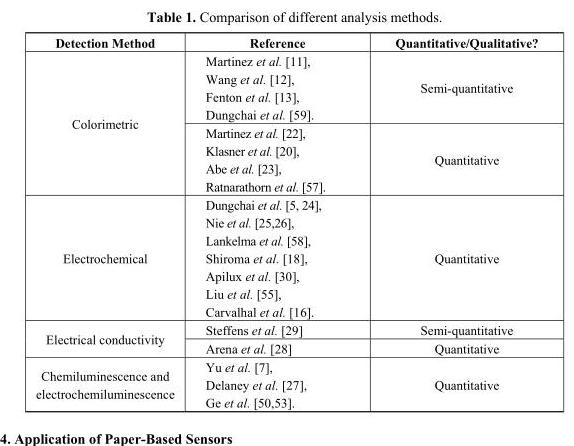table: (35, 35, 537, 409)
table column: (359, 35, 537, 409), (189, 35, 359, 409), (35, 35, 189, 409)
table column header: (35, 35, 537, 51)
table row: (35, 195, 537, 320), (35, 51, 537, 123), (35, 123, 537, 195), (35, 357, 537, 409), (35, 338, 537, 357), (35, 320, 537, 338), (35, 35, 537, 51)
table spanning cell: (35, 51, 189, 195), (35, 320, 189, 357)
